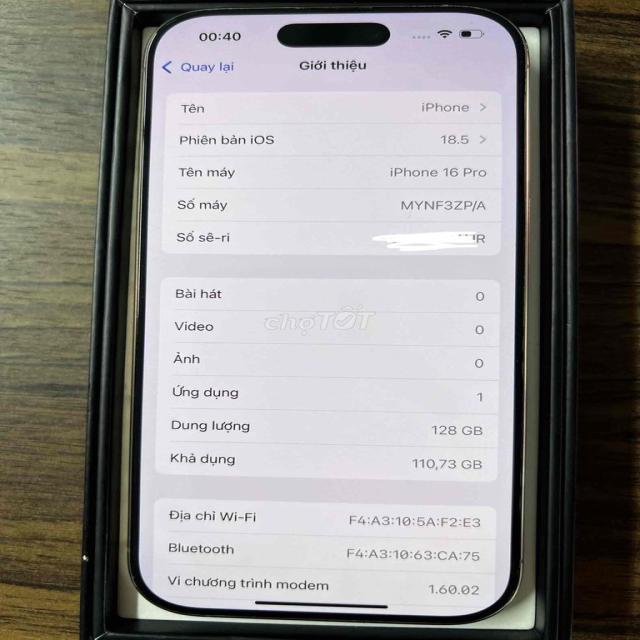gen_16: (124, 2, 531, 637)
